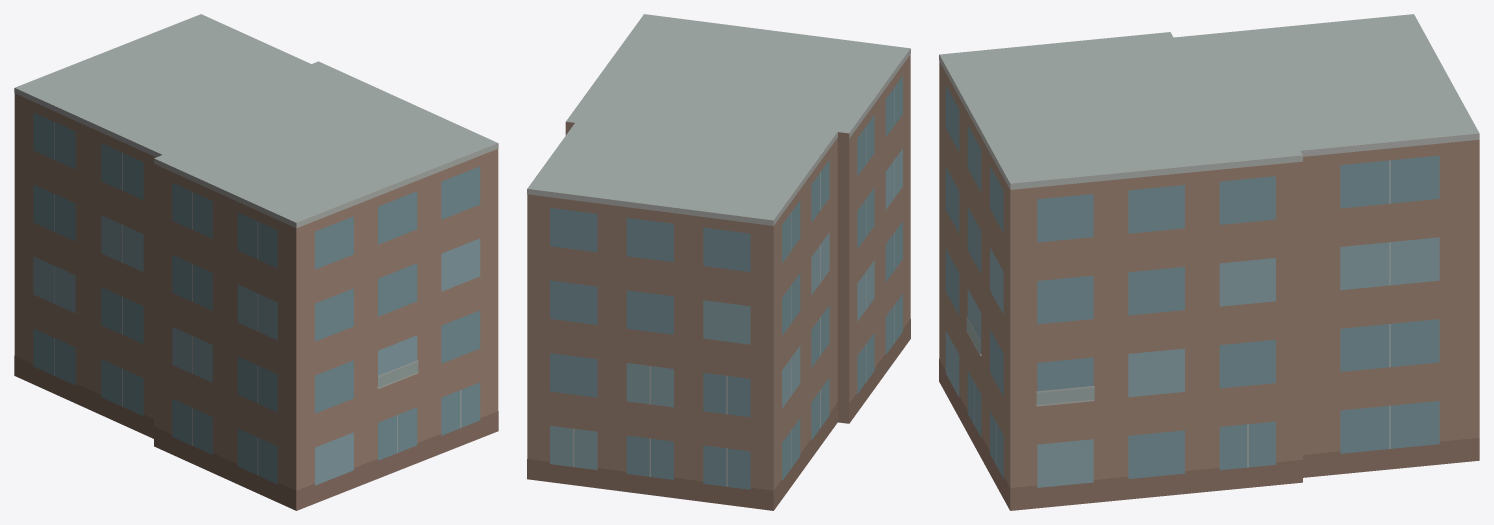
File: survey-upis-32806580.glb
3 renders of one model, left to right at view 1: azimuth 30°, elevation 25°; view 2: azimuth 150°, elevation 25°; view 3: azimuth 270°, elevation 25°, orthographic. The views are drawn at different scales.
Parts seen in each view (by area): view 1: survey-upis-32806580.tmp; view 2: survey-upis-32806580.tmp; view 3: survey-upis-32806580.tmp.
Boxes of the visible parts, x1=… form: survey-upis-32806580.tmp: x1=14, y1=14, x2=498, y2=510; survey-upis-32806580.tmp: x1=527, y1=14, x2=910, y2=510; survey-upis-32806580.tmp: x1=939, y1=14, x2=1479, y2=510.
Bounding box in the file's own units: 14.37 × 12.9 × 19.33.
